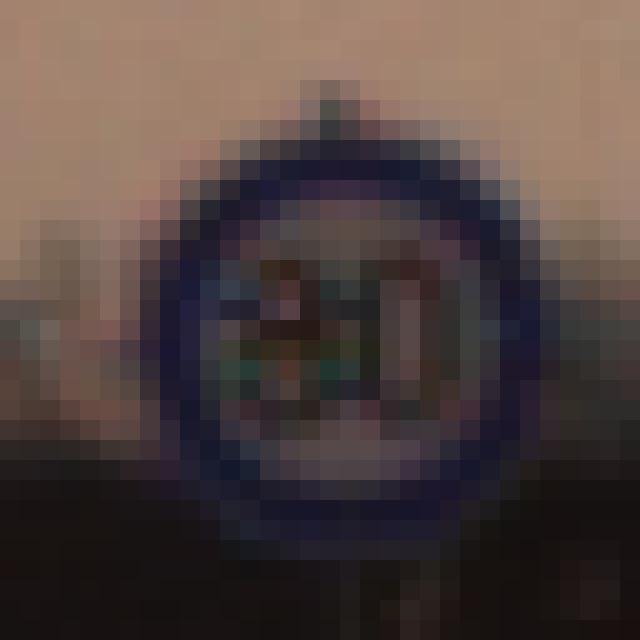SPEED-LIMIT-80: (128, 137, 544, 532)
